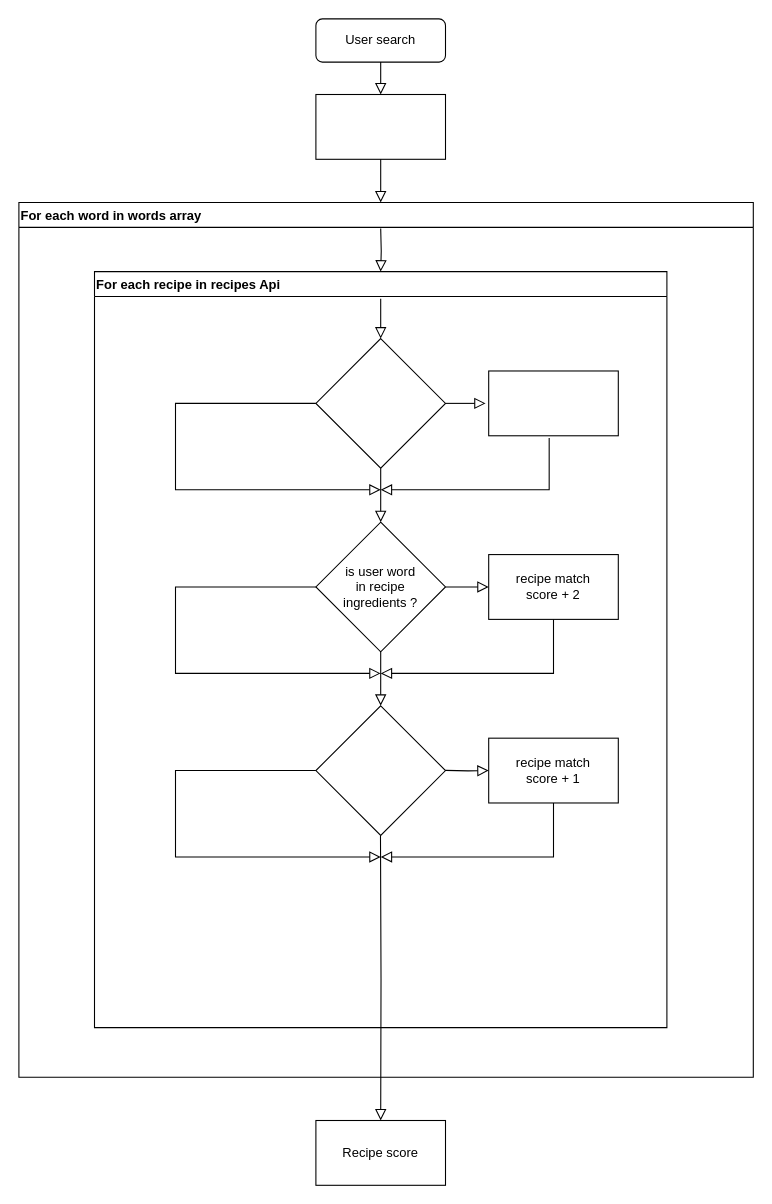
This 772x1204 diagram has some shape labels left out. The centre of each missing label's shape, as x and y in pixels:
"is user word in recipe description ?" goes at (x=380, y=770).
"is user word in recipe title ?" goes at (x=380, y=403).
"recipe match score + 3" goes at (x=553, y=403).
"Split user search in array of words" goes at (x=380, y=126).
